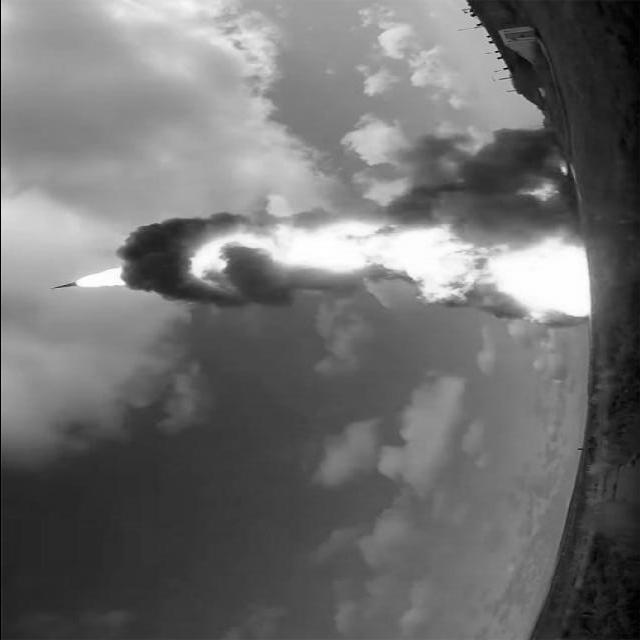missile: (44, 280, 80, 292)
